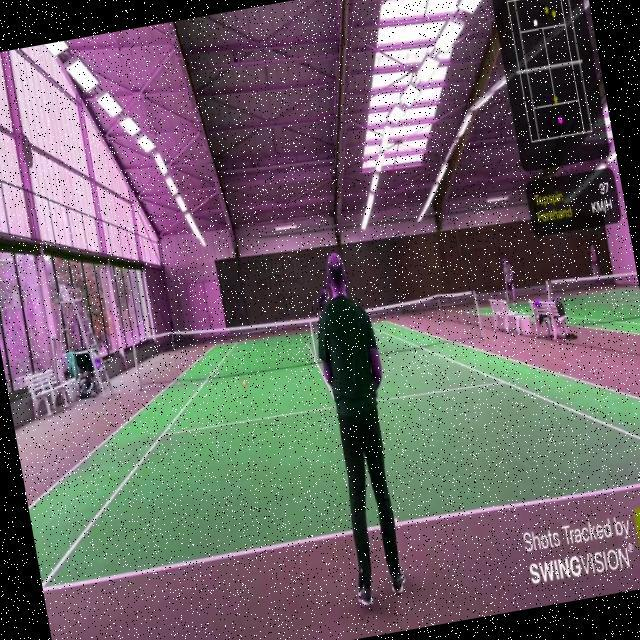court: (5, 270, 640, 594)
net: (130, 278, 484, 399)
player: (297, 248, 422, 606)
